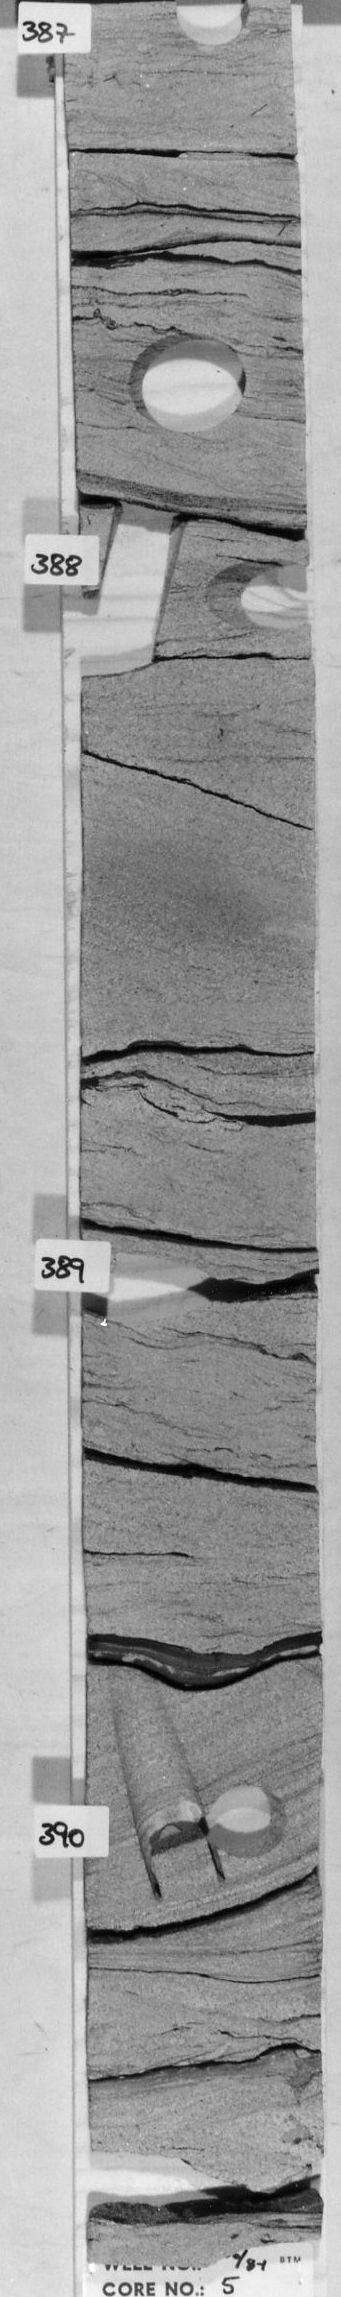hplug: (98, 1244, 221, 1335), (202, 552, 310, 640), (208, 1777, 297, 1863), (170, 1, 261, 50)
scal: (92, 2131, 261, 2237), (121, 328, 255, 438)
vplug: (105, 1669, 233, 1896), (94, 492, 193, 680)
